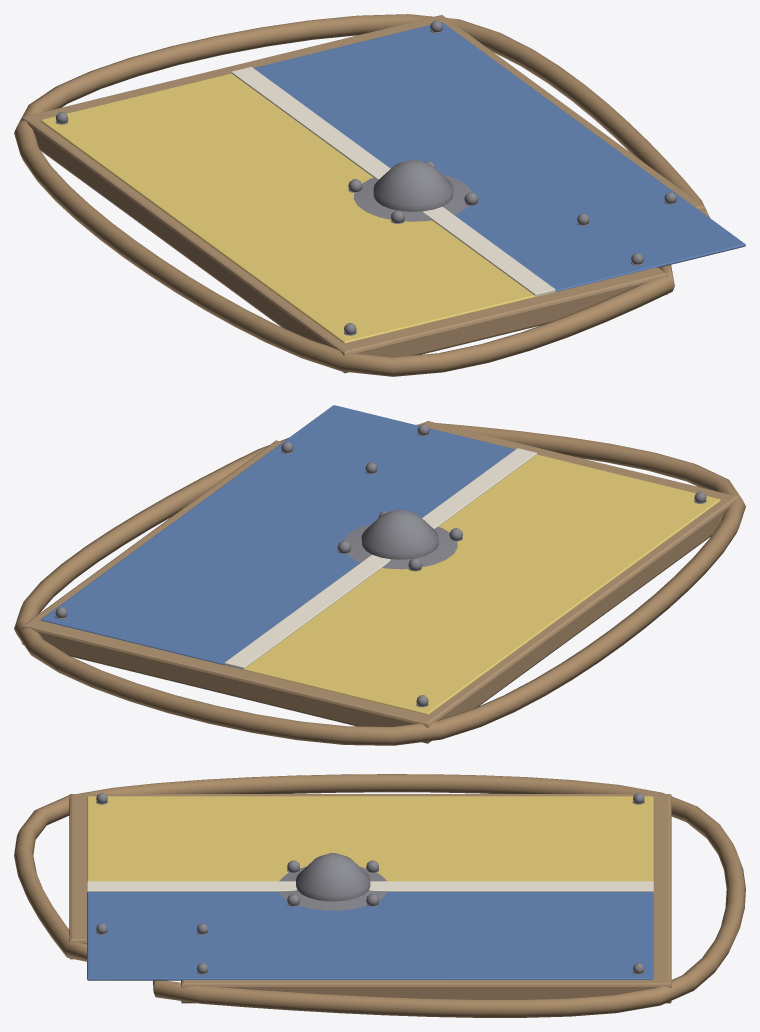
The model's file is tournament-shield.glb.
3 renders of one model, top to bottom at view 1: azimuth 30°, elevation 25°; view 2: azimuth 150°, elevation 25°; view 3: azimuth 270°, elevation 25°, orthographic. The views are drawn at different scales.
Visible parts, largest first — view 1: tournament-shield; view 2: tournament-shield; view 3: tournament-shield.
Part boxes in pixels (box(x1,y1,x2,y2)): tournament-shield: box(14, 14, 745, 376); tournament-shield: box(14, 405, 745, 745); tournament-shield: box(14, 774, 745, 1017).
Bounding box in the file's own units: 0.7423 × 0.118 × 0.9819.
